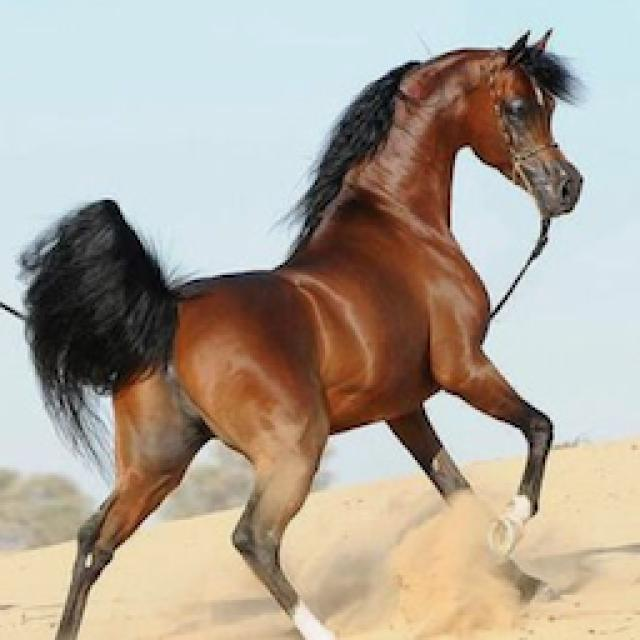Horse: (0, 24, 592, 637)
